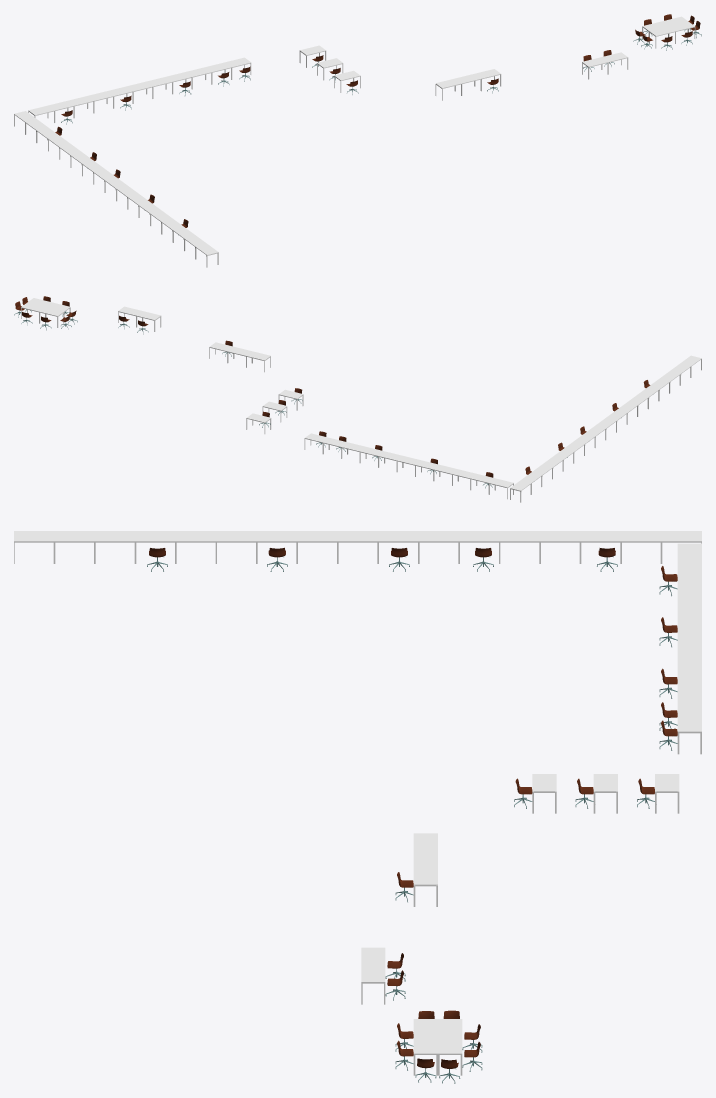
File: 2311B_LS1_FRNTR_11.fbx
3 views of the same model, one above another, from view 1: azimuth 30°, elevation 25°; view 2: azimuth 150°, elevation 25°; view 3: azimuth 270°, elevation 25° (orthographic). The views are drawn at different scales.
Bounding box in the file's own units: 38.76 × 0.7854 × 21.25.
